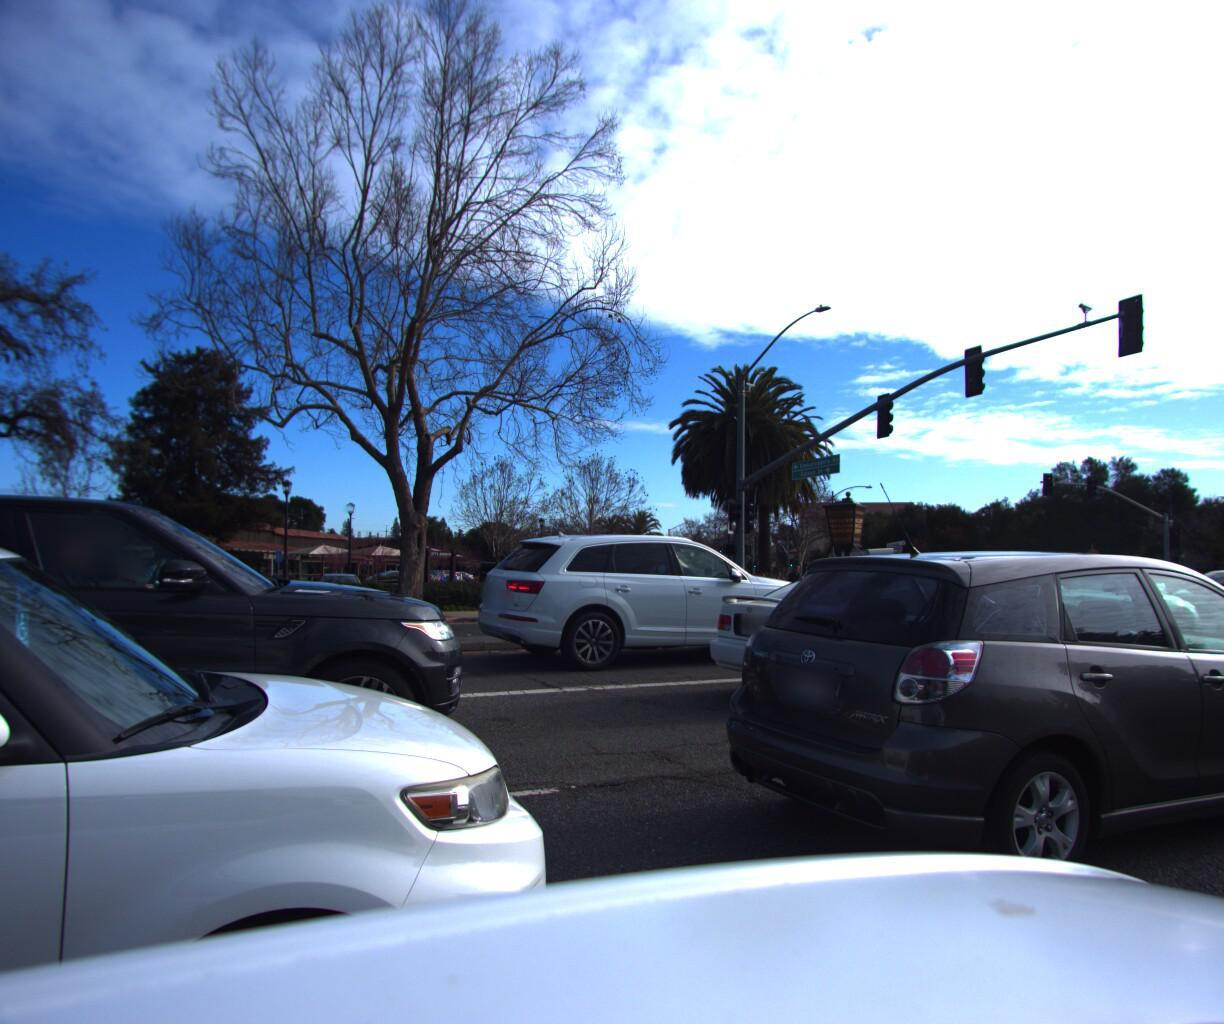car: (0, 216, 629, 1024), (685, 537, 1224, 954), (0, 450, 487, 874), (687, 548, 1085, 717), (461, 522, 850, 681), (0, 532, 136, 746), (934, 555, 1211, 657), (125, 559, 334, 633), (1052, 563, 1174, 613), (1194, 546, 1224, 670), (1168, 563, 1224, 619), (899, 563, 959, 594)
truck: (832, 539, 915, 596)
